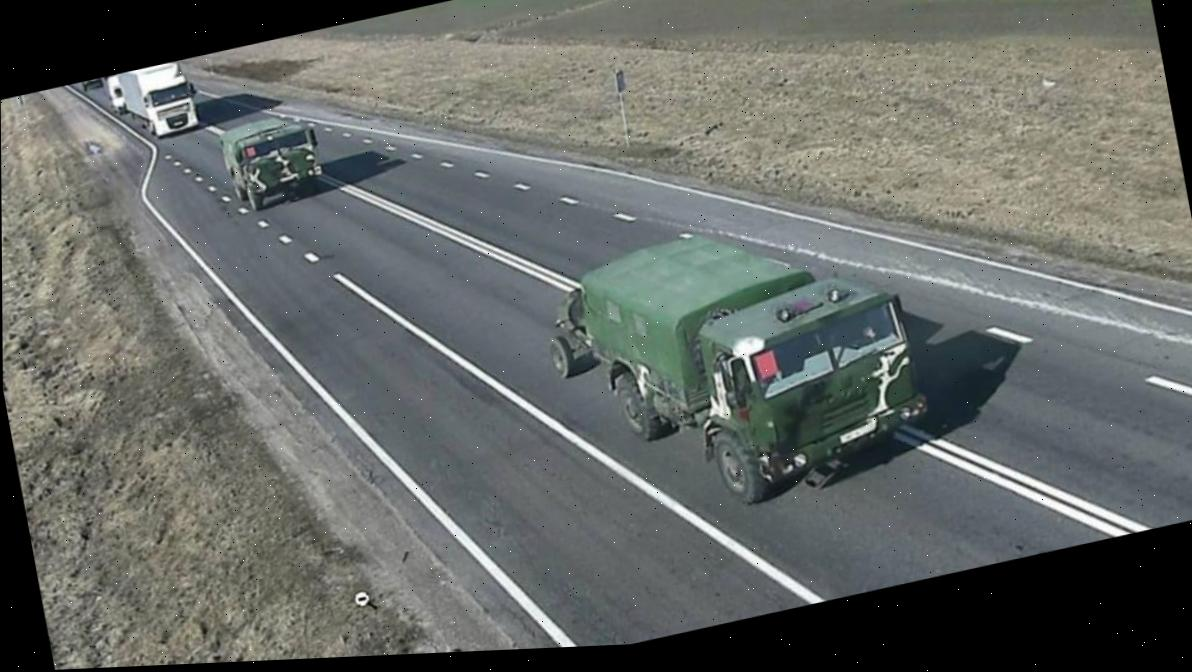truck: (538, 182, 949, 553), (211, 106, 345, 246), (77, 76, 111, 94)
